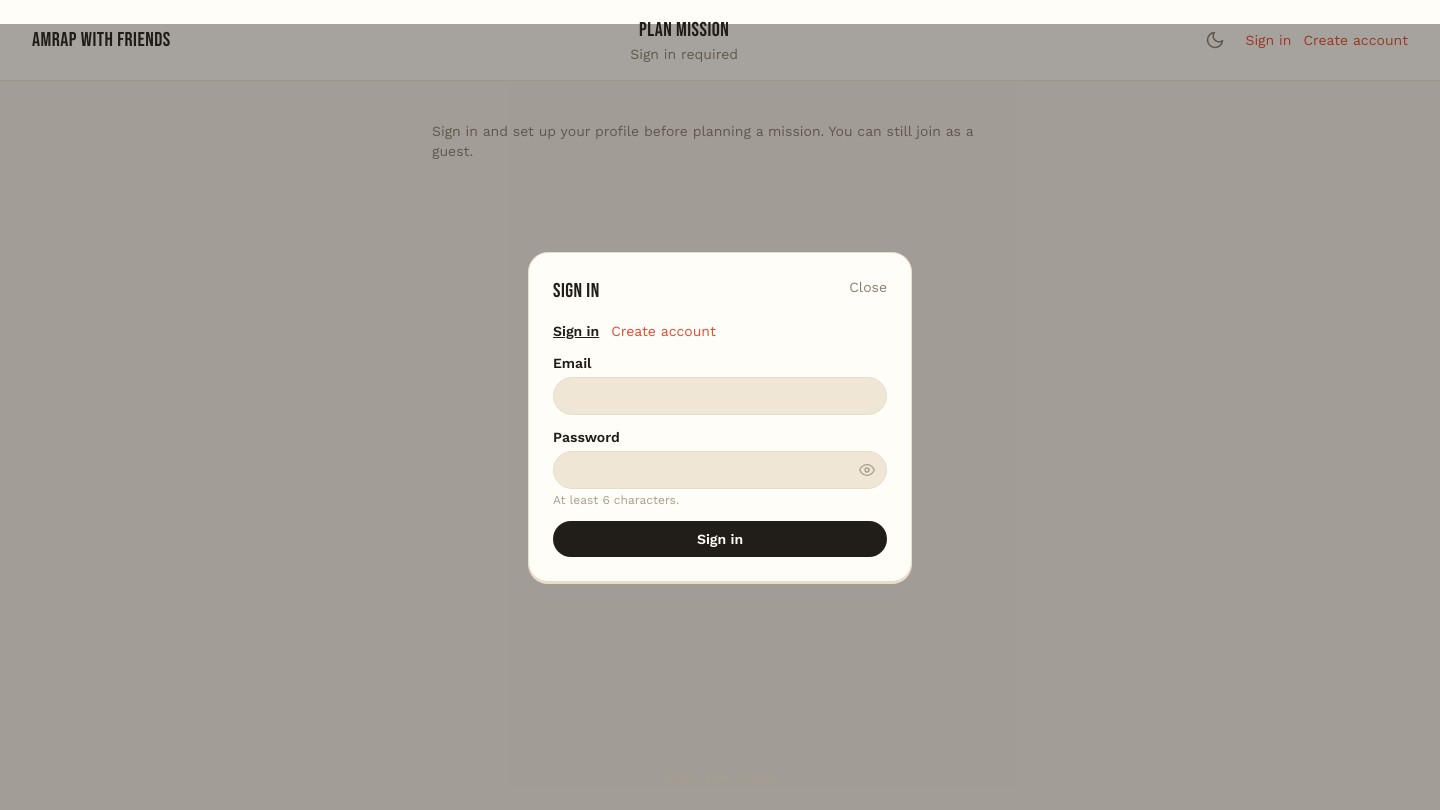
Scenario: RequireIntake › offers Sign in and Create account after the modal is closed
This screenshot has width=1440, height=810.
Check: the heading "Sign in" is shown, box [553,277,600,305]
Click the button "Close" at coordinates (868, 287), box [849,277,887,297]
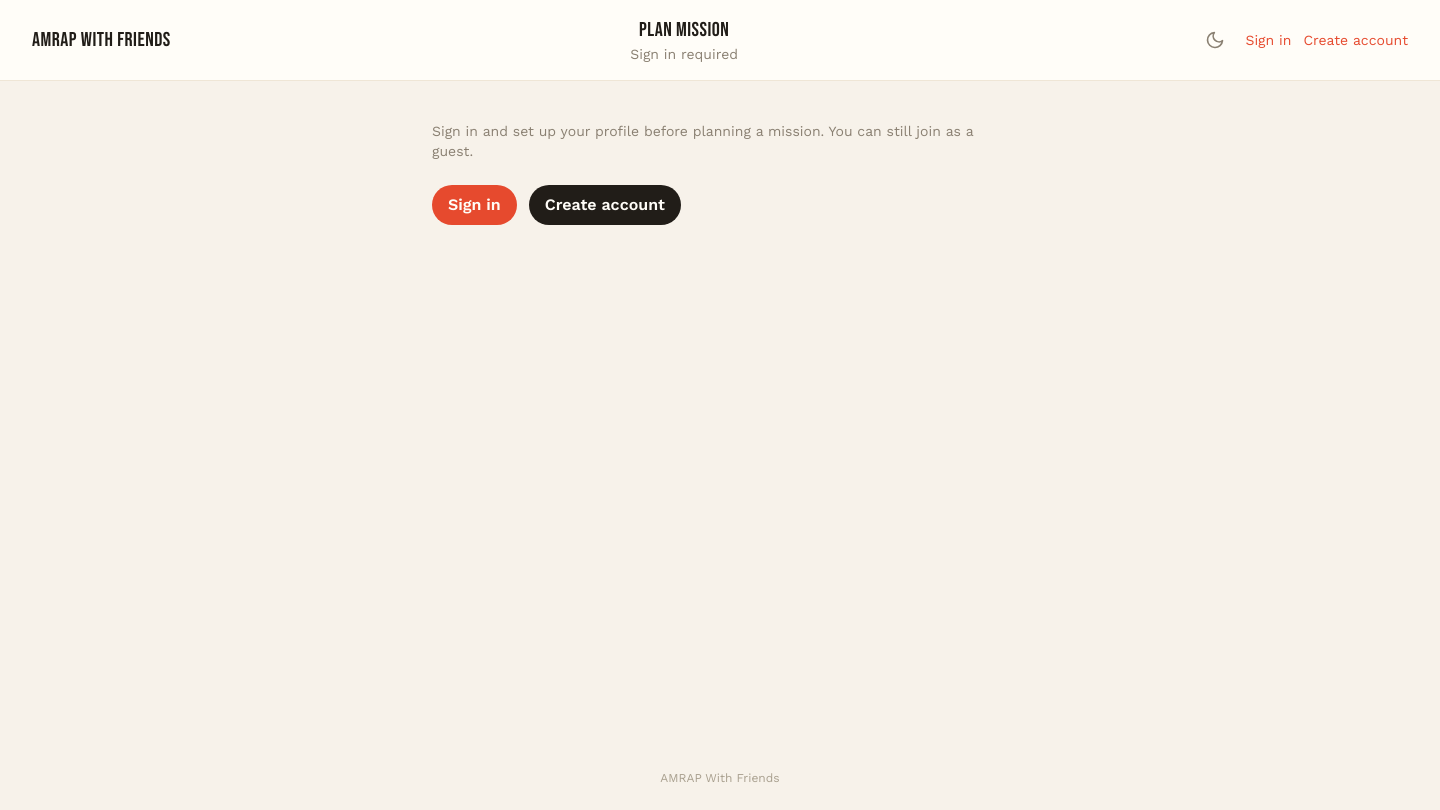
Check: the 2nd button "Sign in" is shown, box [432,185,517,225]
Check: the 2nd button "Create account" is shown
Click the 2nd button "Create account" at coordinates (605, 205), box [529,185,681,225]
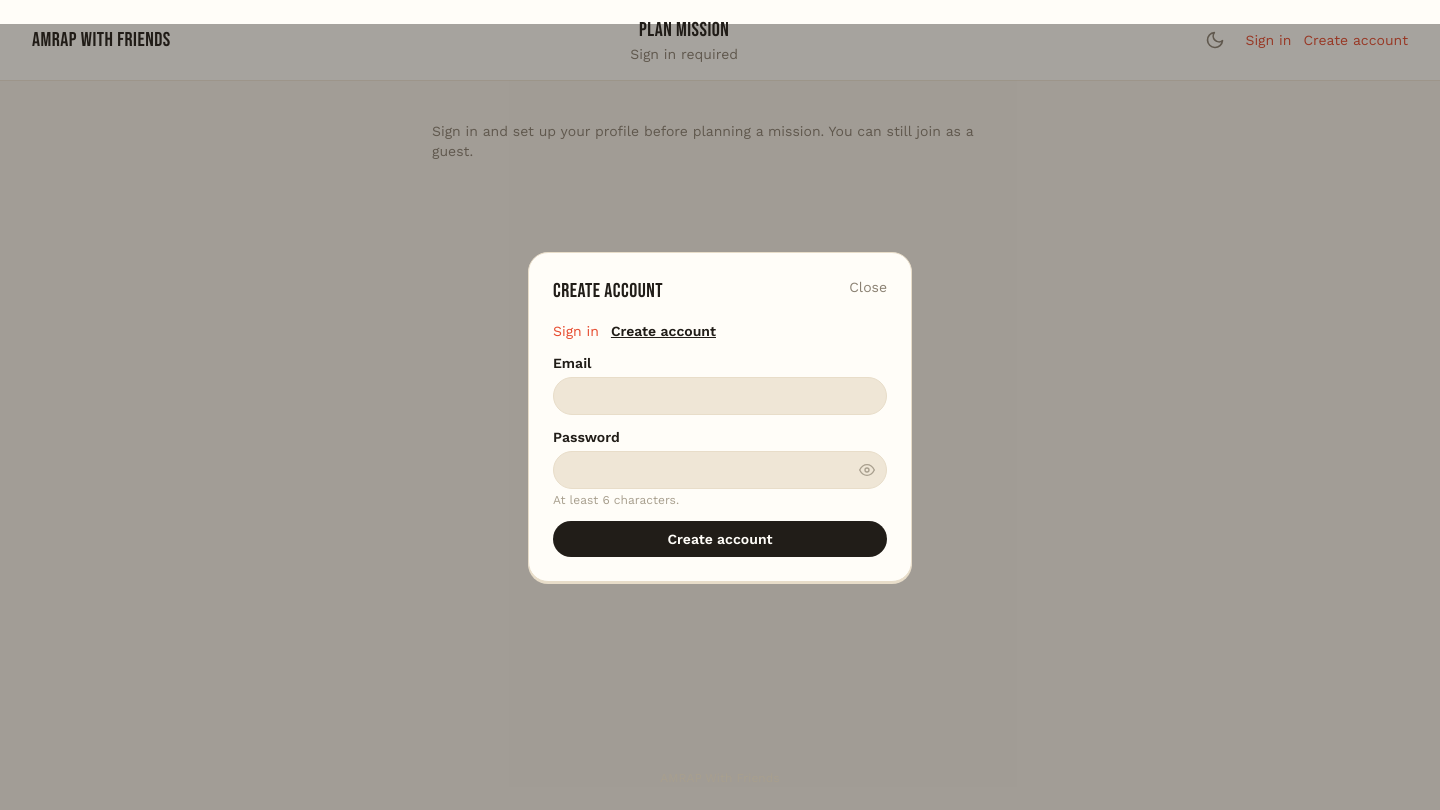
Check: the heading "Create account" is shown, box [553,277,663,305]
